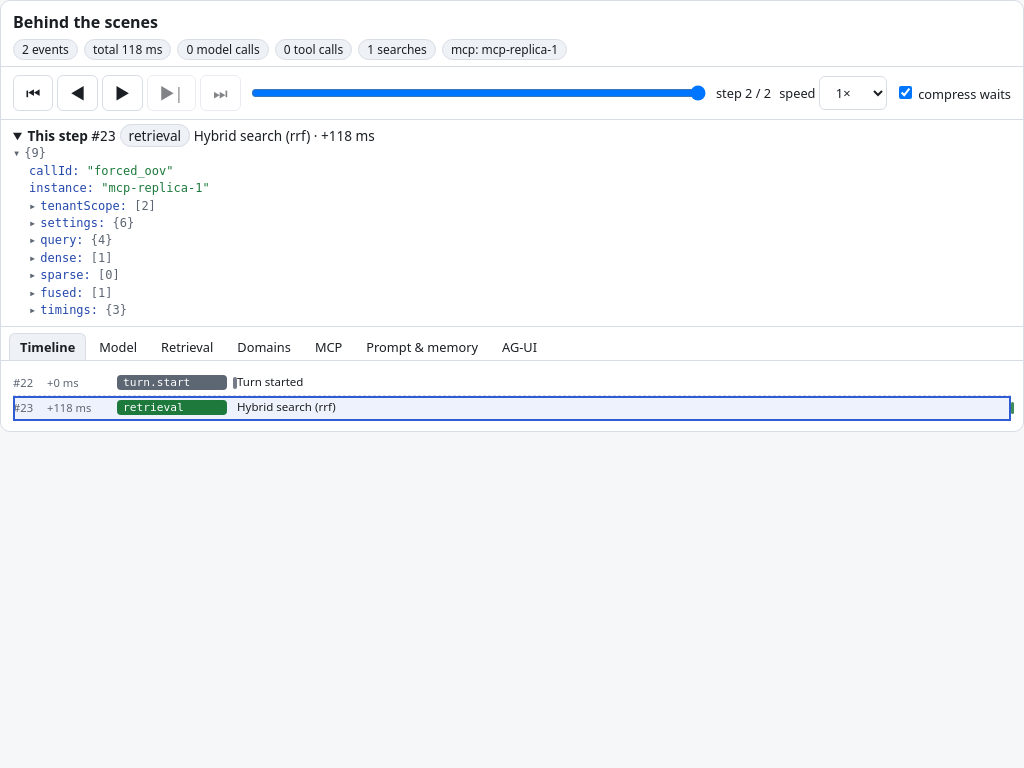
Scenario: MonitorPanel › retrieval tab shows a term the corpus has never seen instead of a weight
Click the tab "Retrieval" at (187, 346), box [150,333,224,360]
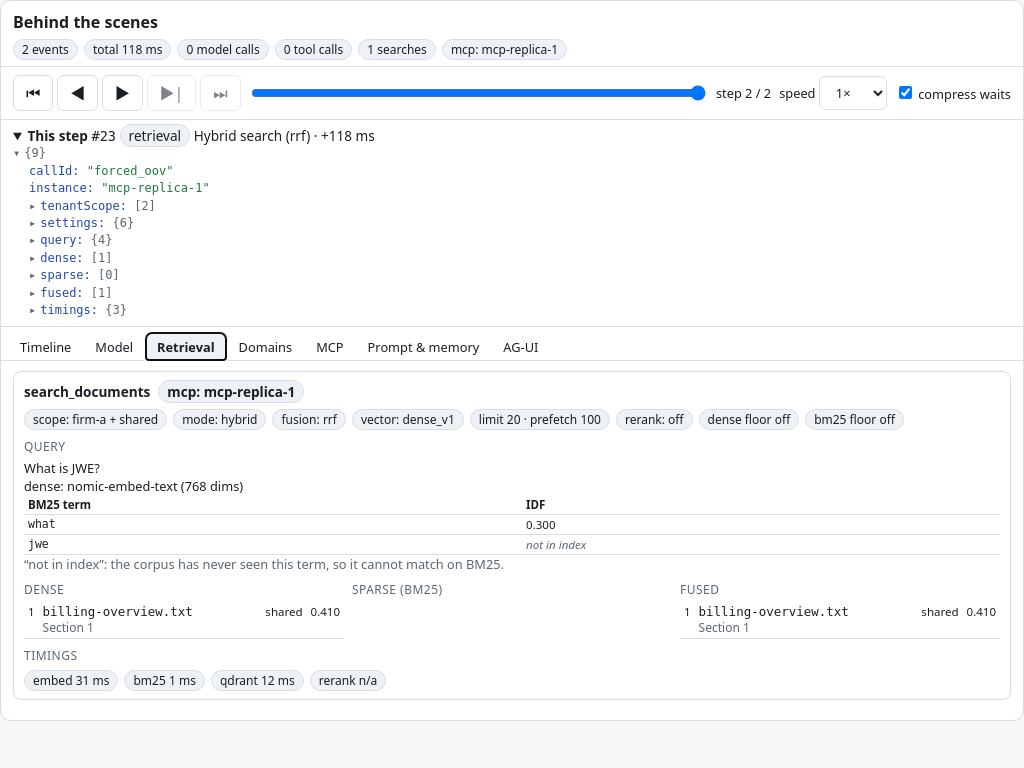
Now the row "what 0.300" is shown, box [24,514,1000,534]
Now the row "jwe not in index" is shown, box [24,534,1000,554]
Now the element "search" shows "it cannot match on BM25", box [24,555,504,573]
